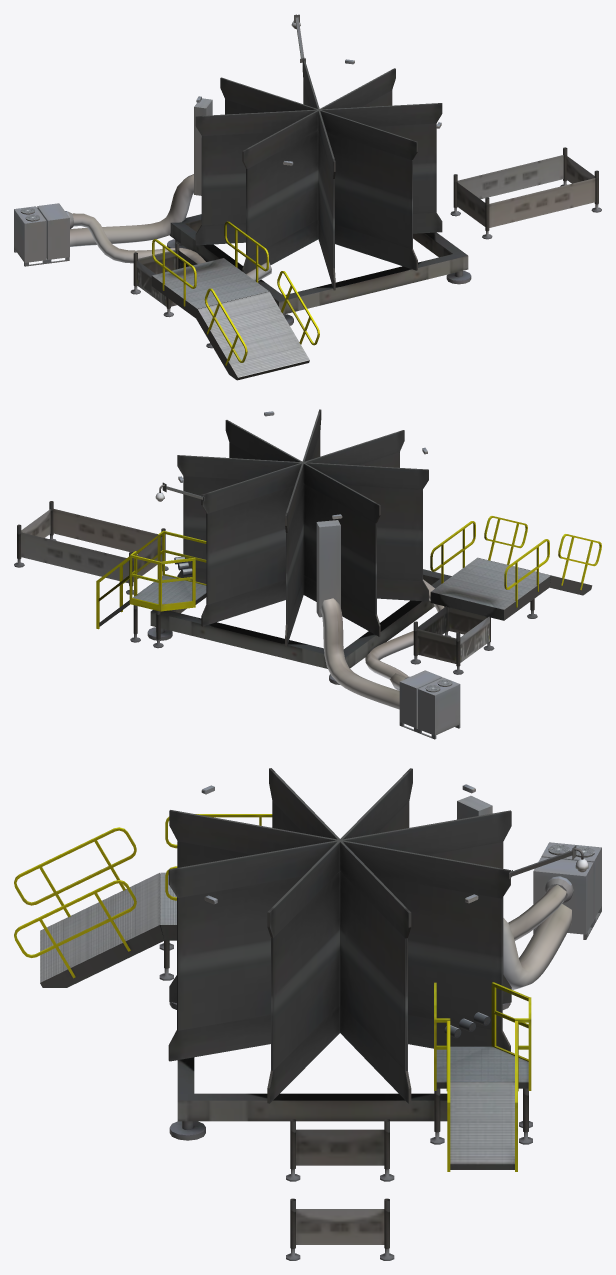
Rendered from habitat-interior.glb.
3 renders of one model, top to bottom at view 1: azimuth 30°, elevation 25°; view 2: azimuth 150°, elevation 25°; view 3: azimuth 270°, elevation 25°, orthographic. The views are drawn at different scales.
Parts seen in each view (by area): view 1: HDU_lowRez_part2; view 2: HDU_lowRez_part2; view 3: HDU_lowRez_part2.
Part boxes in pixels (<box>): HDU_lowRez_part2: <box>14,14,601,380</box>; HDU_lowRez_part2: <box>14,409,601,739</box>; HDU_lowRez_part2: <box>14,768,601,1260</box>.
Size of the model in its own units: 656 by 226 by 459.
Materials: 1 (1 with a texture image).
